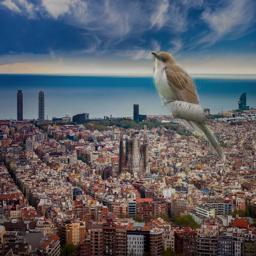Cuckoo: (150, 51, 226, 162)
